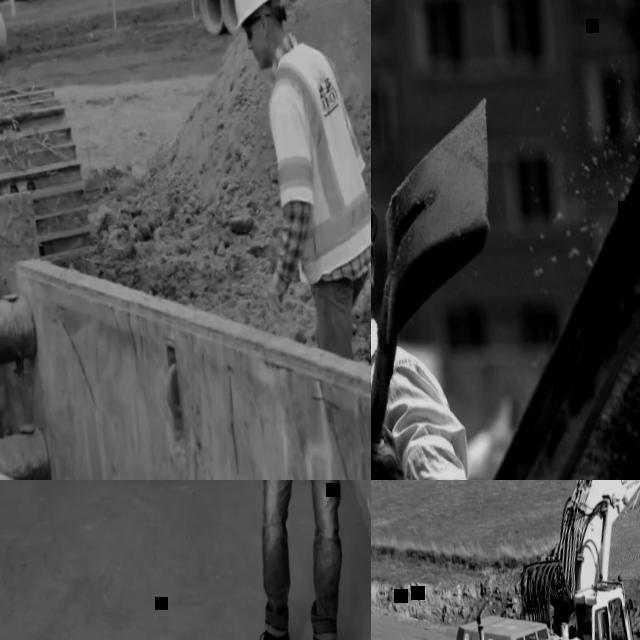helmet: (228, 0, 281, 25)
vest: (258, 30, 371, 286)
